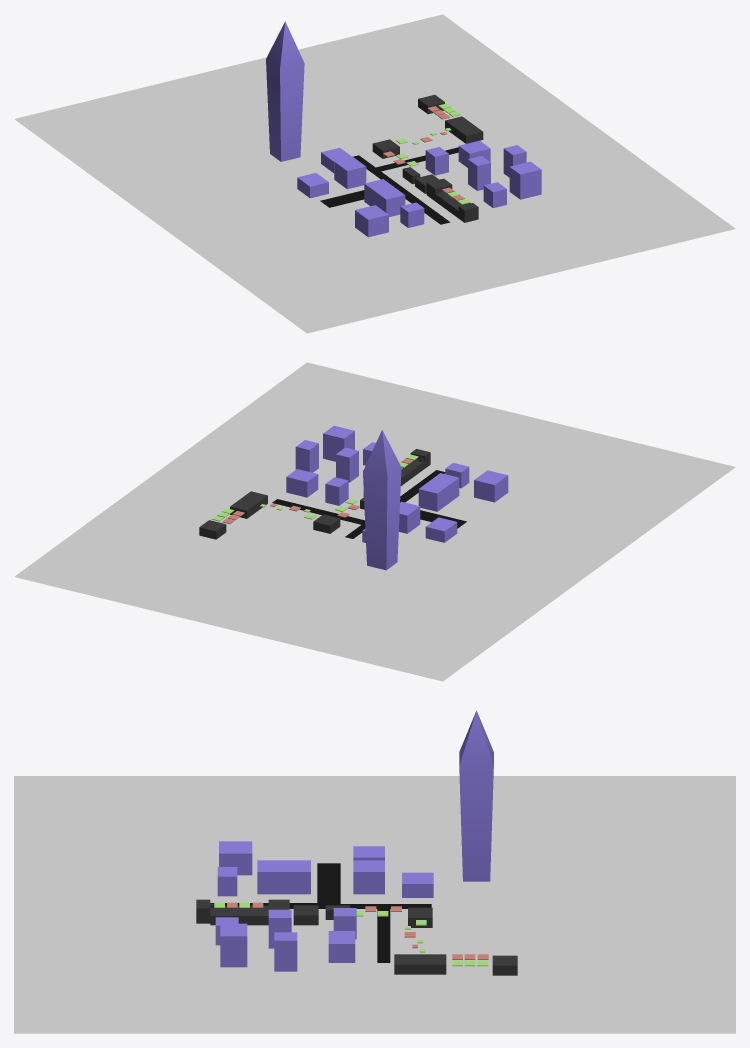
The model's file is grup 1 tutorial.fbx.
3 renders of one model, top to bottom at view 1: azimuth 30°, elevation 25°; view 2: azimuth 150°, elevation 25°; view 3: azimuth 270°, elevation 25°, orthographic. The views are drawn at different scales.
Parts seen in each view (by area): view 1: Plane001, Pyramid001, Box015, Box011, Box014, Box024, Box010, Box023, Box025, Box027, Box028, Box013 (+1 smaller); view 2: Plane001, Pyramid001, Box015, Box014, Box011, Box028, Box010, Box012, Box025, Box023, Box024, Box027; view 3: Plane001, Pyramid001, Box015, Box011, Box024, Box023, Rectangle002, Box014, Box012, Box007, Box028, Box026 (+6 smaller).
Part boxes in pixels (x1,y1,x2,y2): Plane001: (14, 14, 735, 333); Pyramid001: (266, 21, 304, 161); Box015: (364, 179, 405, 216); Box011: (509, 161, 541, 199); Box014: (355, 205, 388, 237); Box024: (334, 157, 366, 189); Box010: (468, 156, 490, 190); Box023: (445, 116, 483, 143); Box025: (297, 173, 328, 198); Box027: (425, 147, 448, 175); Box028: (458, 140, 490, 167); Box013: (400, 202, 424, 227); Plane001: (14, 362, 735, 681); Pyramid001: (363, 430, 401, 570); Box015: (418, 473, 459, 511); Box014: (474, 470, 508, 502); Box011: (323, 425, 354, 461); Box028: (286, 469, 318, 497); Box010: (336, 447, 358, 482); Box012: (295, 440, 318, 472); Box025: (425, 517, 457, 542); Box023: (230, 491, 267, 518); Box024: (398, 501, 420, 533); Box027: (325, 477, 348, 505); Plane001: (14, 776, 735, 1033); Pyramid001: (459, 710, 493, 881); Box015: (257, 860, 310, 894); Box011: (220, 923, 247, 967); Box024: (353, 860, 384, 894); Box023: (394, 954, 446, 974); Rectangle002: (317, 863, 340, 908); Box014: (219, 841, 252, 875); Box012: (274, 932, 297, 971); Box007: (210, 905, 268, 925); Box028: (328, 931, 355, 962); Box026: (402, 872, 433, 897).
Bounding box in the file's own units: 666 × 200 × 789.
